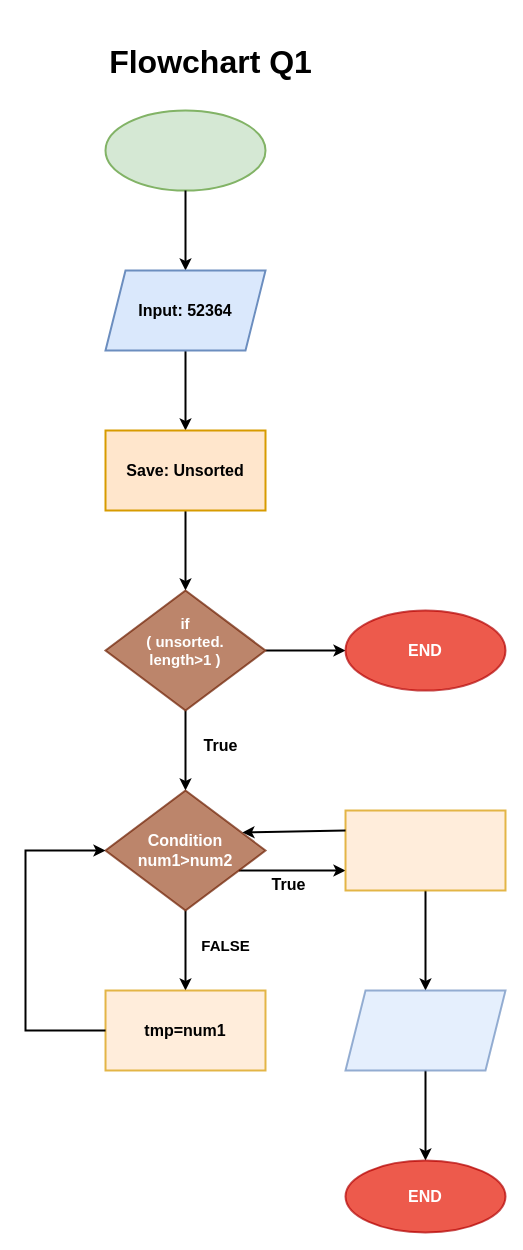
Some shapes in this 523 by 1250 pixel diagram are drawn without their labels. The centre of each missing label's shape, as x and y in pixels:
print tmp: (425,1030)
START: (185,150)
tmp=num2: (425,850)
